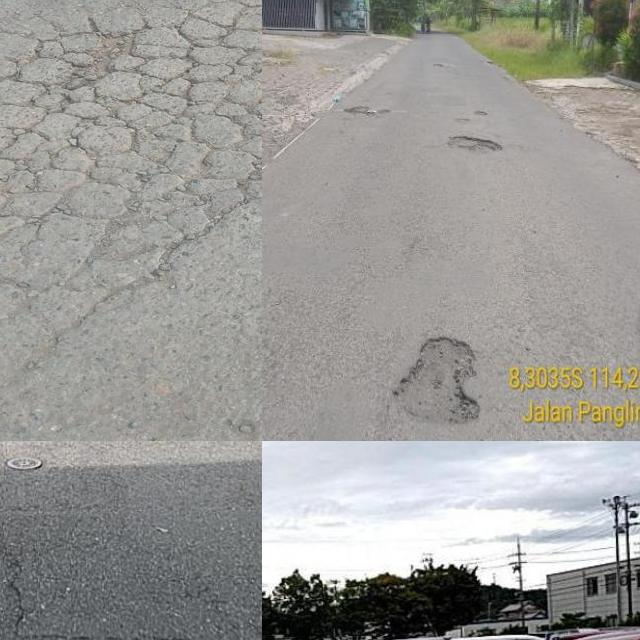Lubang: (396, 337, 479, 424), (450, 133, 506, 155)
Melintang: (0, 620, 262, 640)
Retak Buaya: (0, 0, 262, 313)
